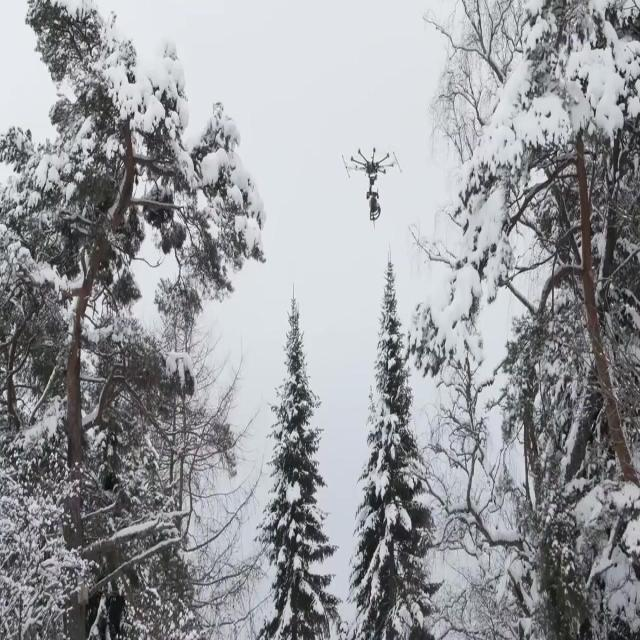drone: (342, 144, 403, 227)
